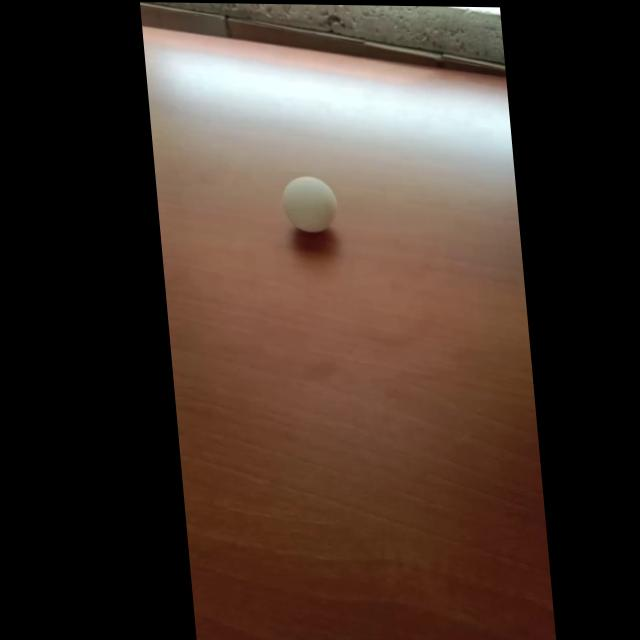white ball: (279, 175, 340, 234)
